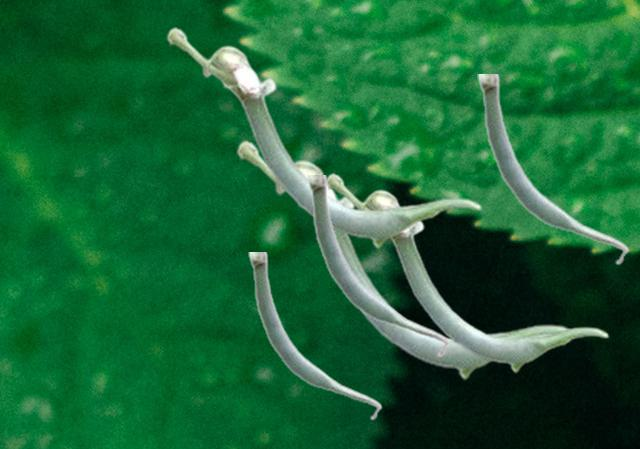french_bean: (236, 139, 576, 379), (166, 26, 481, 248), (326, 172, 608, 372), (477, 74, 628, 265), (306, 175, 449, 357), (248, 252, 381, 420)
